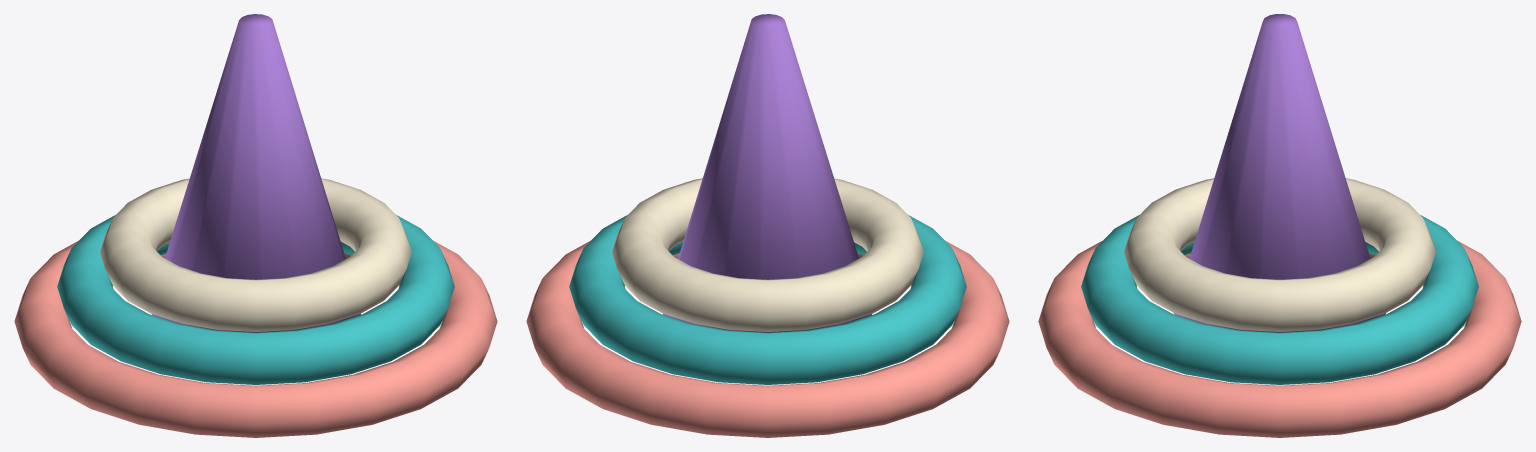
File: r061_dungeon_shell_props_shell_02.glb
3 renders of one model, left to right at view 1: azimuth 30°, elevation 25°; view 2: azimuth 150°, elevation 25°; view 3: azimuth 270°, elevation 25°, orthographic.
Parts seen in each view (by area): view 1: r061_dungeon_shell_props_shell_02.001; view 2: r061_dungeon_shell_props_shell_02.001; view 3: r061_dungeon_shell_props_shell_02.001.
Boxes of the visible parts, box(x1,y1,x2,y2) form: r061_dungeon_shell_props_shell_02.001: box(14, 14, 497, 437); r061_dungeon_shell_props_shell_02.001: box(526, 14, 1009, 437); r061_dungeon_shell_props_shell_02.001: box(1038, 14, 1521, 437).
Bounding box in the file's own units: 2.26 × 1.68 × 2.26.
